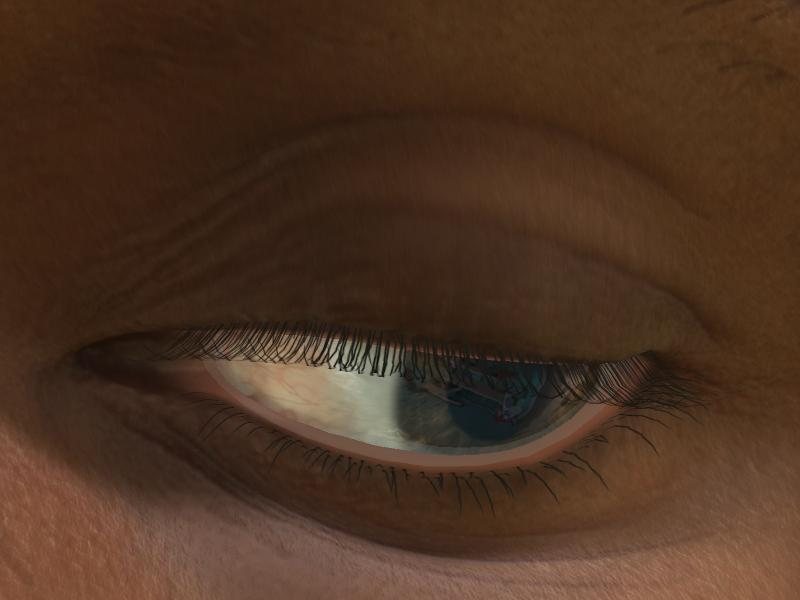eye: (397, 346, 593, 453)
